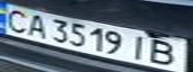1: (84, 25, 106, 53)
3: (45, 16, 72, 45)
5: (66, 20, 90, 48)
9: (103, 27, 127, 56)
A: (21, 11, 51, 39)
B: (145, 38, 184, 68)
C: (0, 6, 33, 34)
I: (127, 32, 154, 62)
